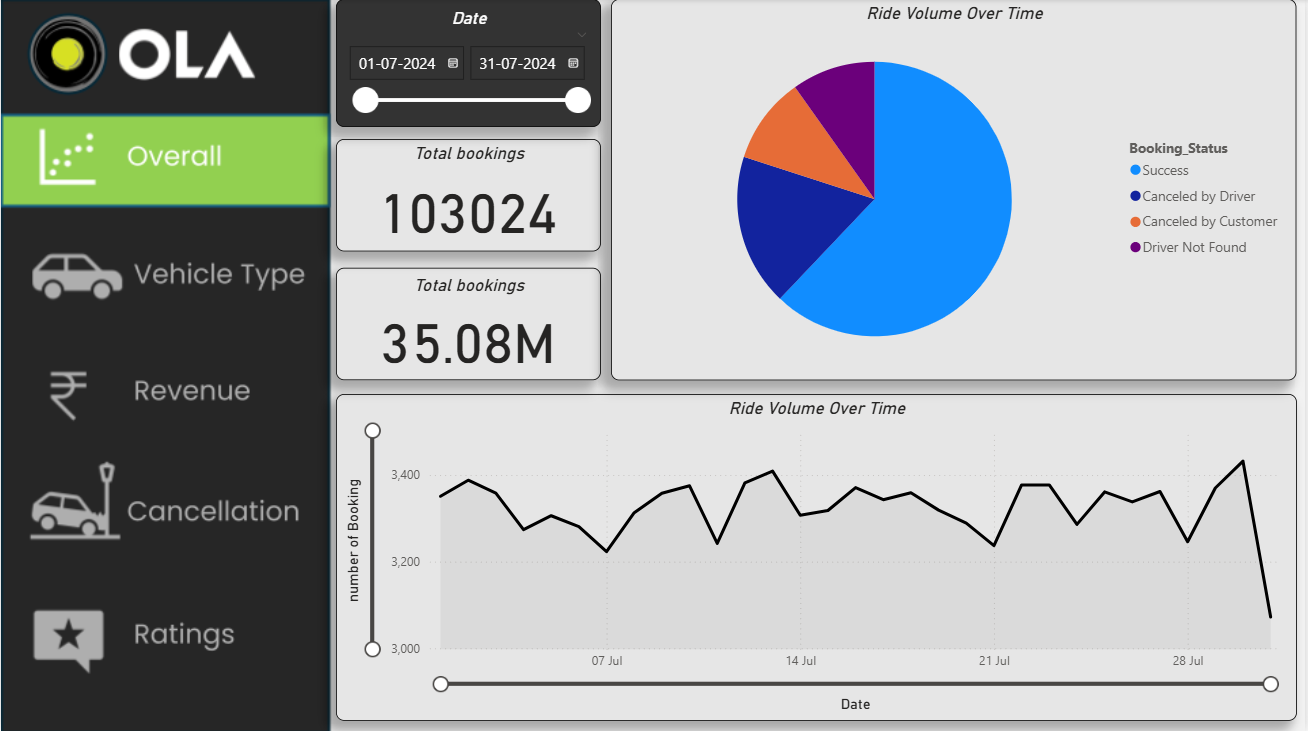

The dashboard page shown, as its layout file describes it:
{"tool":"powerbi","page":{"name":"overall","canvas":[1280,720],"ordinal":0},"visuals":[{"type":"actionButton","box":[0,227,319,92],"z":0},{"type":"actionButton","box":[0,344.8,319,88.3],"z":1000},{"type":"actionButton","box":[0,455.2,319,95.7],"z":2000},{"type":"actionButton","box":[0,579.1,319,90.8],"z":3000},{"type":"lineChart","title":"Ride Volume Over Time","fields":{"Y":["CountNonNull(July (2).Booking_ID)"],"Category":["July (2).Date"]},"box":[328.6,388.3,942.9,320.8],"z":4000},{"type":"pieChart","title":"Ride Volume Over Time","fields":{"Category":["July (2).Booking_Status"],"Y":["CountNonNull(July (2).Booking_Status)"]},"box":[598.7,0,672.7,374],"z":5000},{"type":"slicer","title":"Date","fields":{"Values":["July (2).Date"]},"box":[328.6,0,259.7,126],"z":6000},{"type":"card","title":"Total bookings","fields":{"Values":["CountNonNull(July (2).Booking_ID)"]},"box":[328.6,137.7,259.7,110.4],"z":7000},{"type":"card","title":"Total bookings","fields":{"Values":["Sum(July (2).Booking_Value)"]},"box":[328.6,263.6,259.7,110.4],"z":8000}]}

Visuals, with their boxes in screenshot pixels (x1, y1, x2, y2), scaled from the page's 1280x720 canvas onto the 1308x731 screenshot:
actionButton: detection(0, 230, 326, 324)
actionButton: detection(0, 350, 326, 440)
actionButton: detection(0, 462, 326, 559)
actionButton: detection(0, 588, 326, 680)
"Ride Volume Over Time" lineChart: detection(336, 394, 1299, 720)
"Ride Volume Over Time" pieChart: detection(612, 0, 1299, 380)
"Date" slicer: detection(336, 0, 601, 128)
"Total bookings" card: detection(336, 140, 601, 252)
"Total bookings" card: detection(336, 268, 601, 380)
